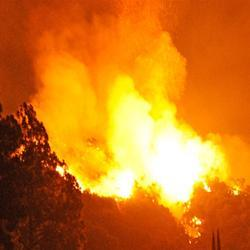fire: (115, 111, 196, 198)
